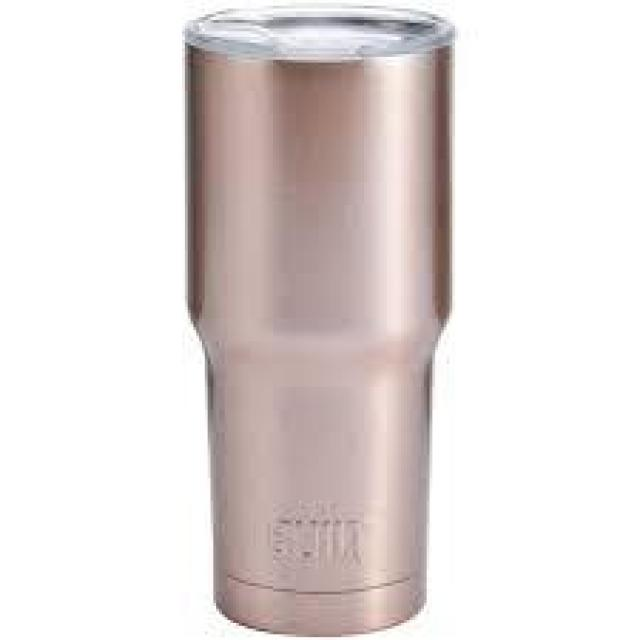bottle: (182, 12, 452, 638)
